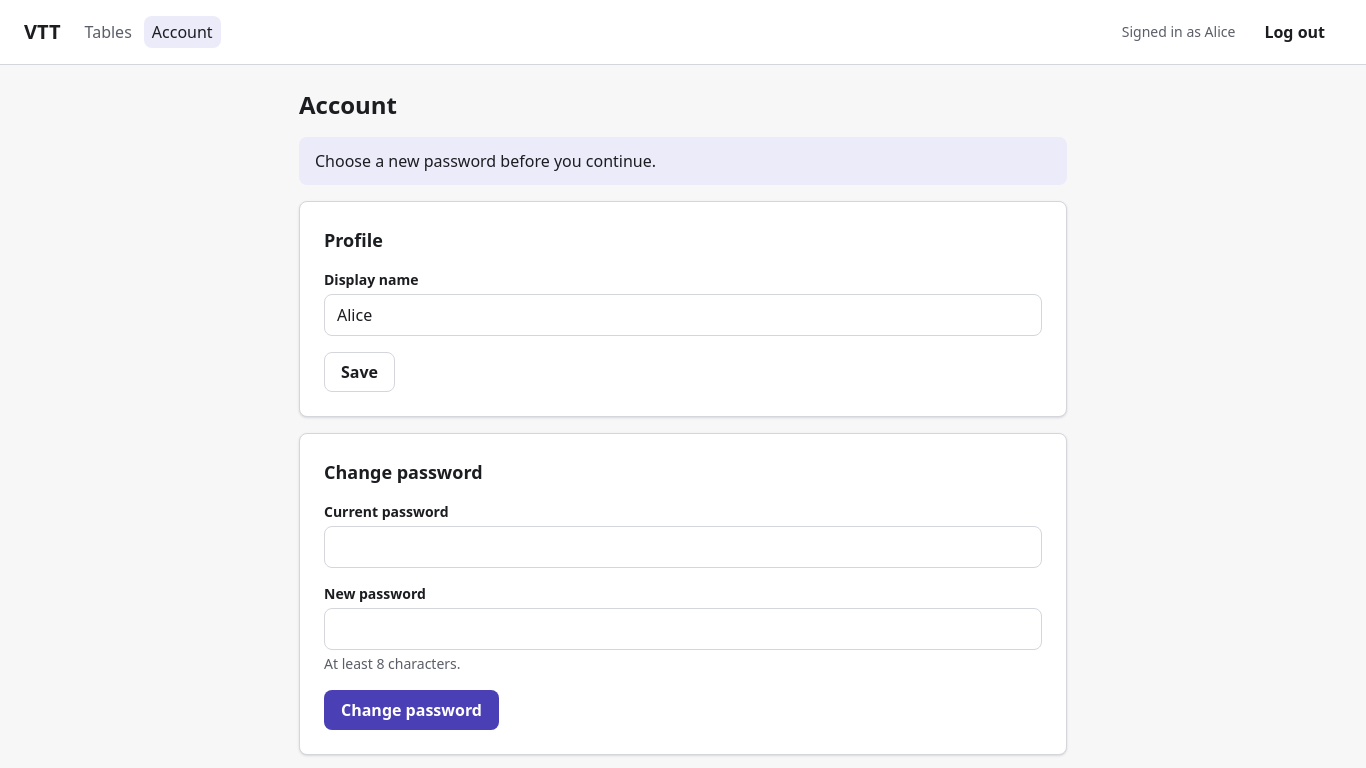
account (FR-AUTH-05) › forces a password change for one-time passwords, then lets the user continue
Expected: the text "Choose a new password before you continue." is shown, [299,137,1067,185]
Type "one-time-pass" into the password field labelled "Current password". click: [683, 547]
box: [324,526,1042,568]
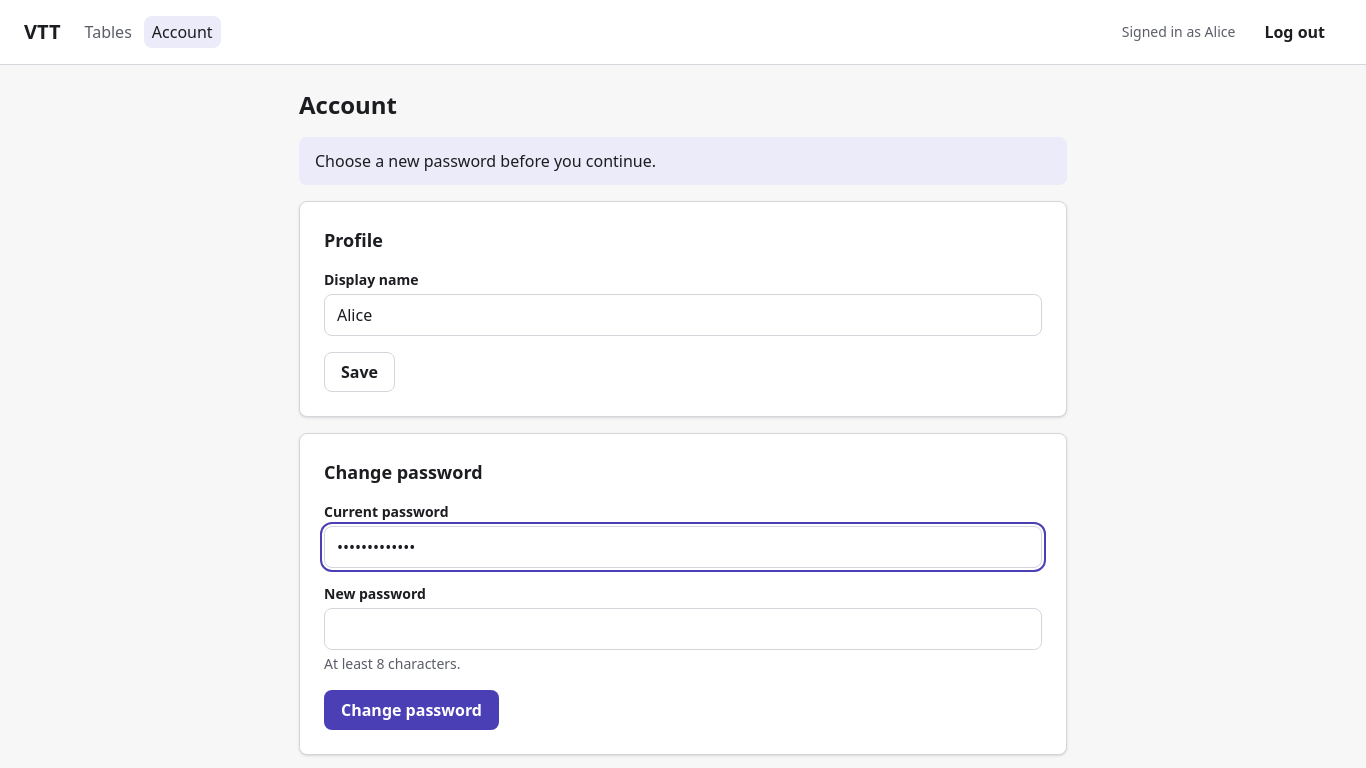
Type "brand-new-pass" into the password field labelled "New password". click: [683, 629]
box: [324,608,1042,650]
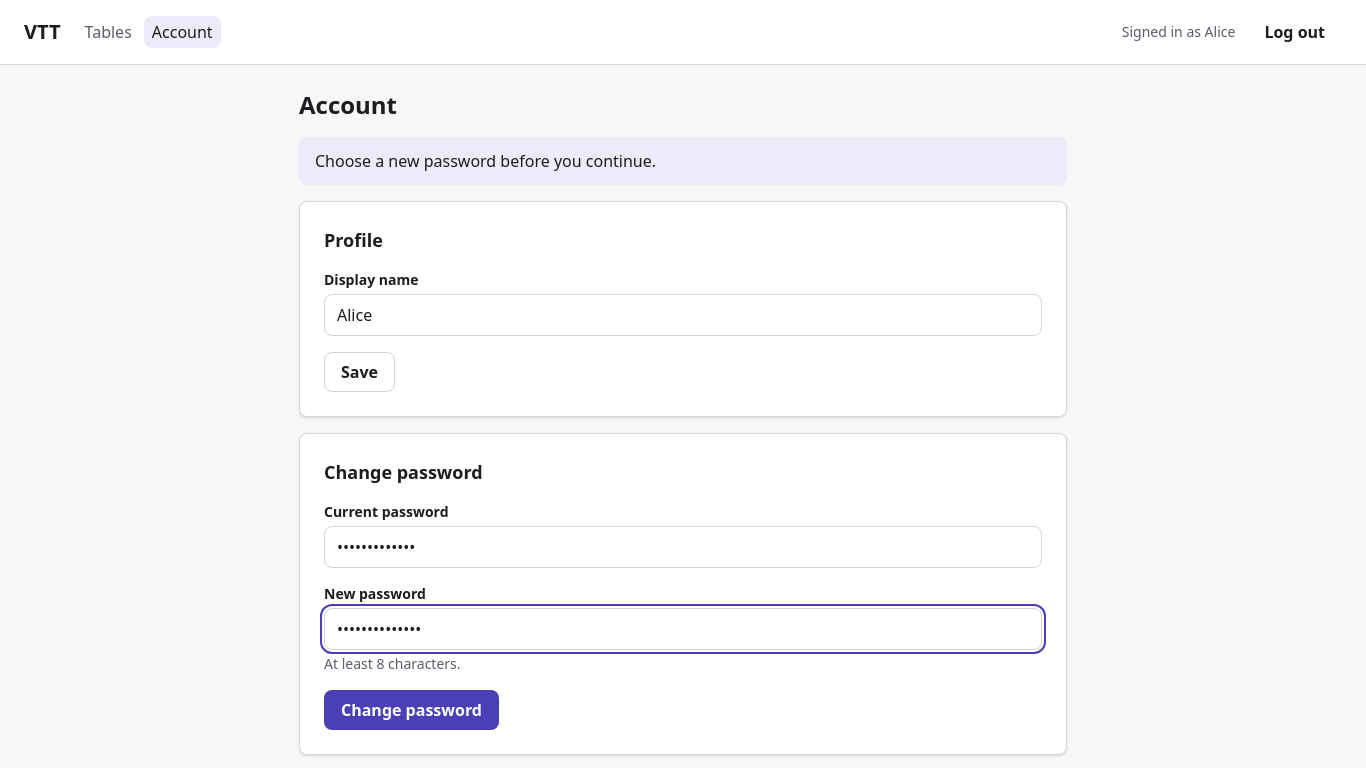
Click the button "Change password". click: [412, 710]
box: [324,690,499,730]
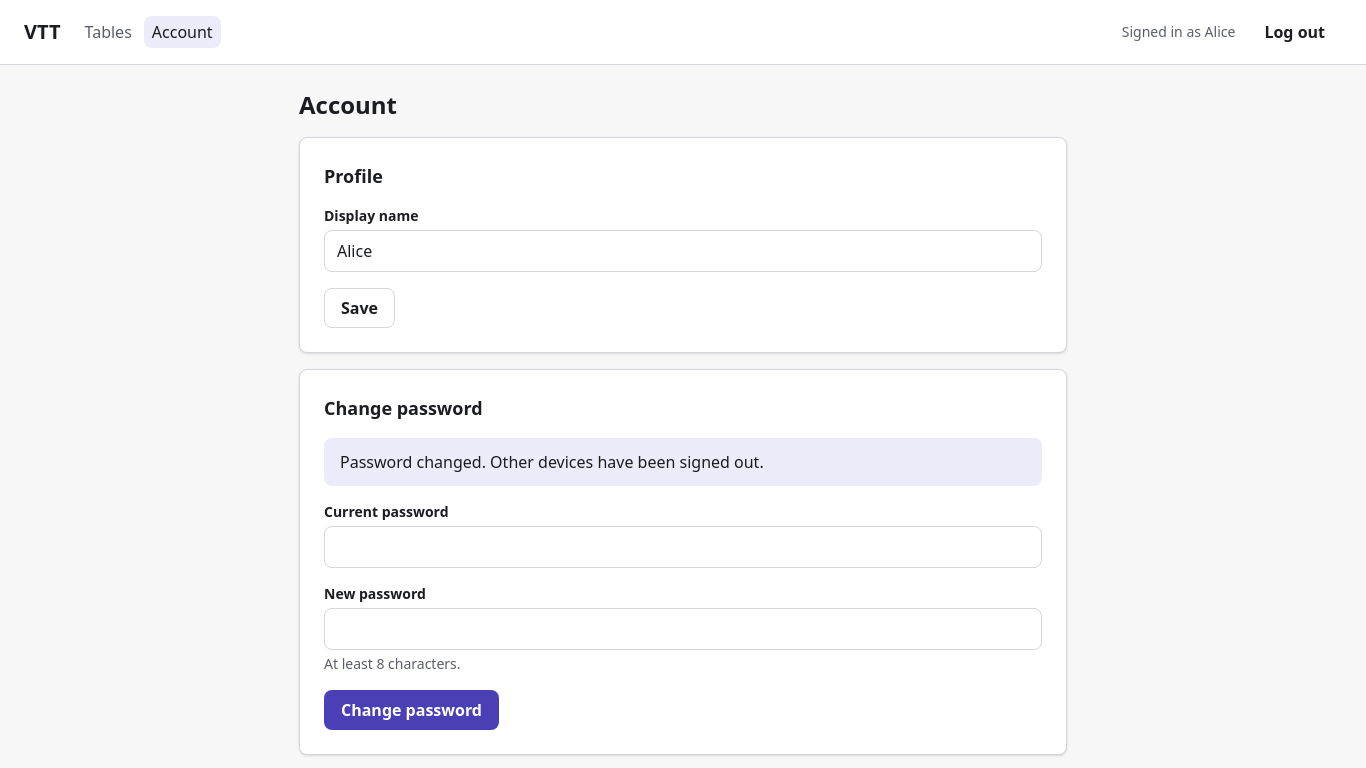
Expected: the text "Password changed. Other devices have been signed out." is shown, [324,438,1042,486]
Click the link "Tables". click: [108, 32]
box: [85,21,132,43]
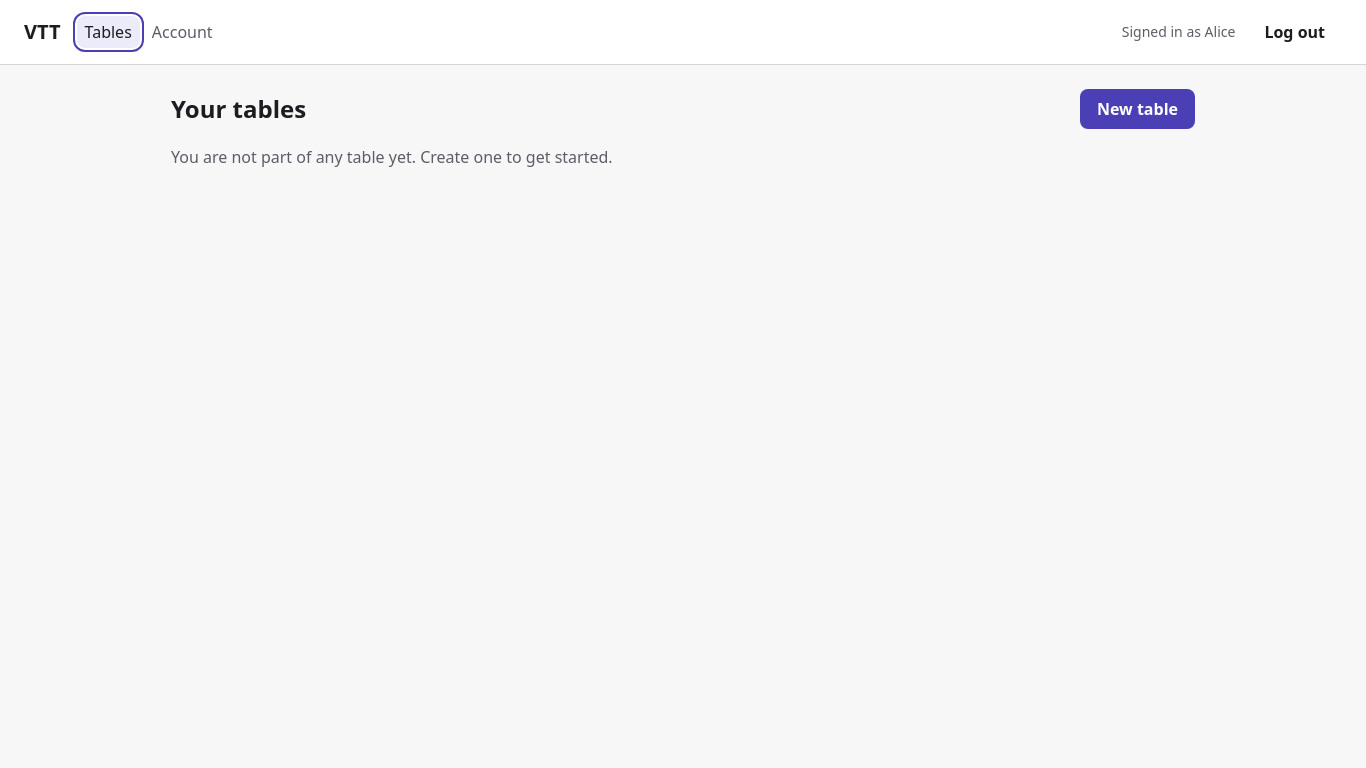
Expected: the heading "Your tables" is shown, [171,93,306,125]
